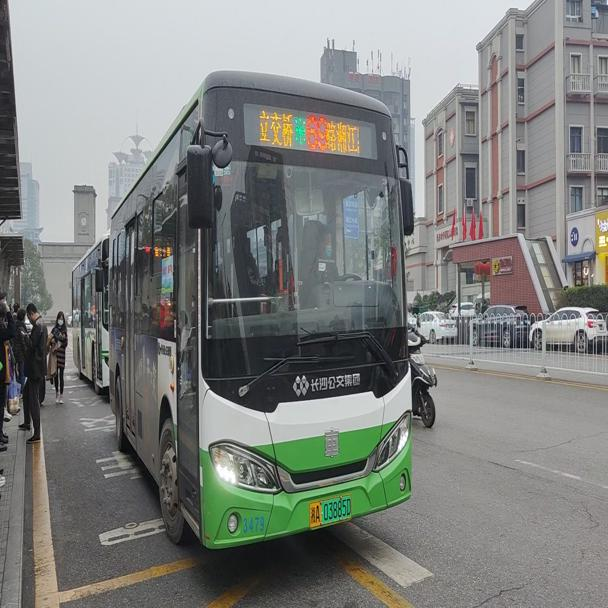bus: (109, 63, 418, 546), (71, 231, 111, 396)
screen: (301, 112, 329, 153)
